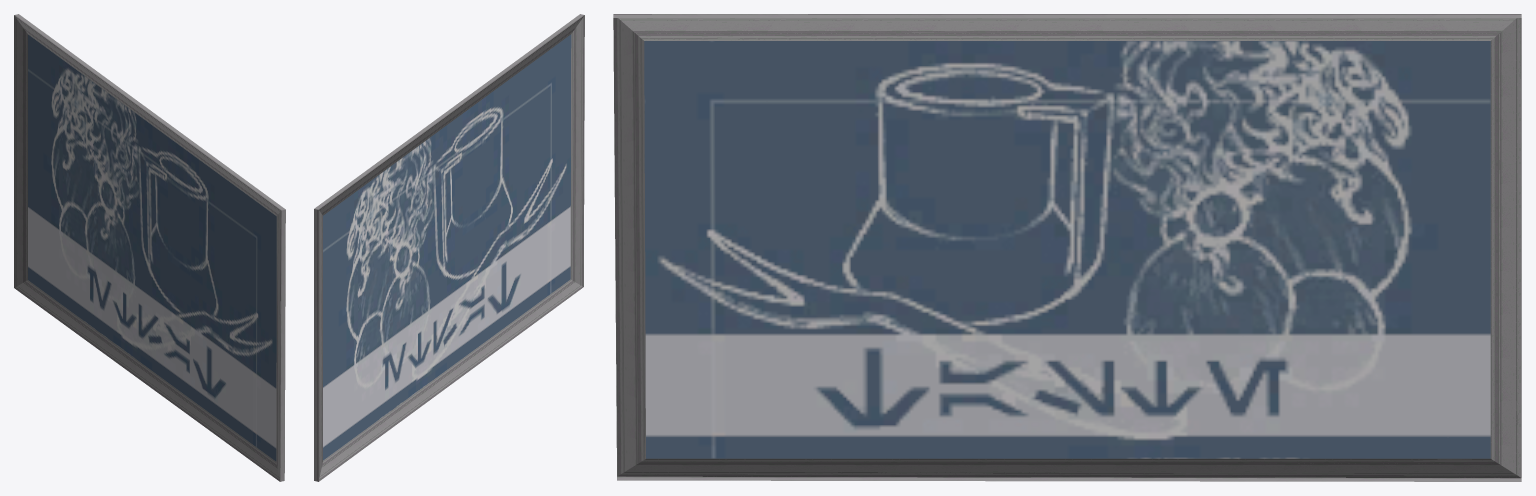
Rendered from frn_all_painting_food_baking_s02.fbx.
The picture shows the model from 3 angles, left to right: view 1: azimuth 30°, elevation 25°; view 2: azimuth 150°, elevation 25°; view 3: azimuth 270°, elevation 25°; orthographic projection. The views are drawn at different scales.
Visible parts, largest first — view 1: mesh_node; view 2: mesh_node; view 3: mesh_node.
Part boxes in pixels (box(x1,y1,x2,y2)): mesh_node: box(14, 14, 285, 481); mesh_node: box(314, 14, 584, 481); mesh_node: box(613, 14, 1521, 481).
Size of the model in its own units: 0.0173 by 0.9611 by 1.7.
